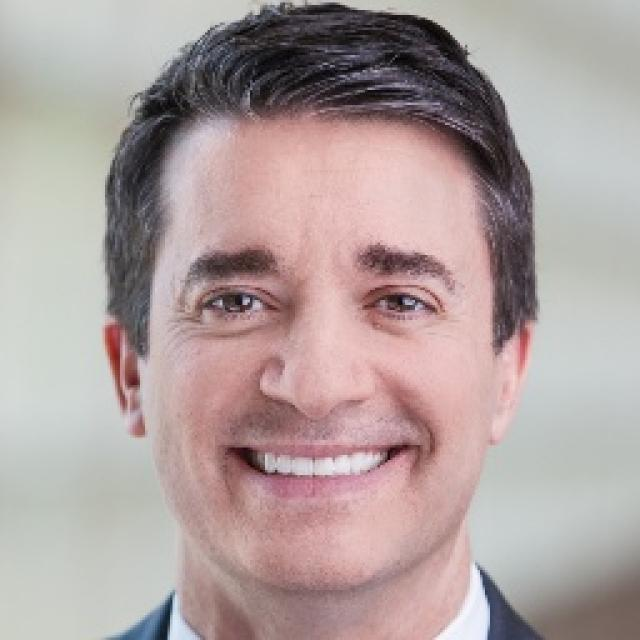earlobe: (117, 382, 146, 437), (489, 394, 516, 447)
eye: (202, 290, 278, 318), (363, 288, 438, 316)
nose: (260, 395, 374, 436)
wholeear: (489, 318, 536, 446), (103, 316, 147, 436)
